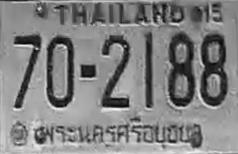0: (46, 34, 74, 108)
1: (144, 31, 154, 106)
2: (100, 34, 130, 107)
7: (13, 33, 41, 108)
8: (200, 32, 228, 106), (168, 31, 194, 106)
AYA: (37, 118, 199, 149)
